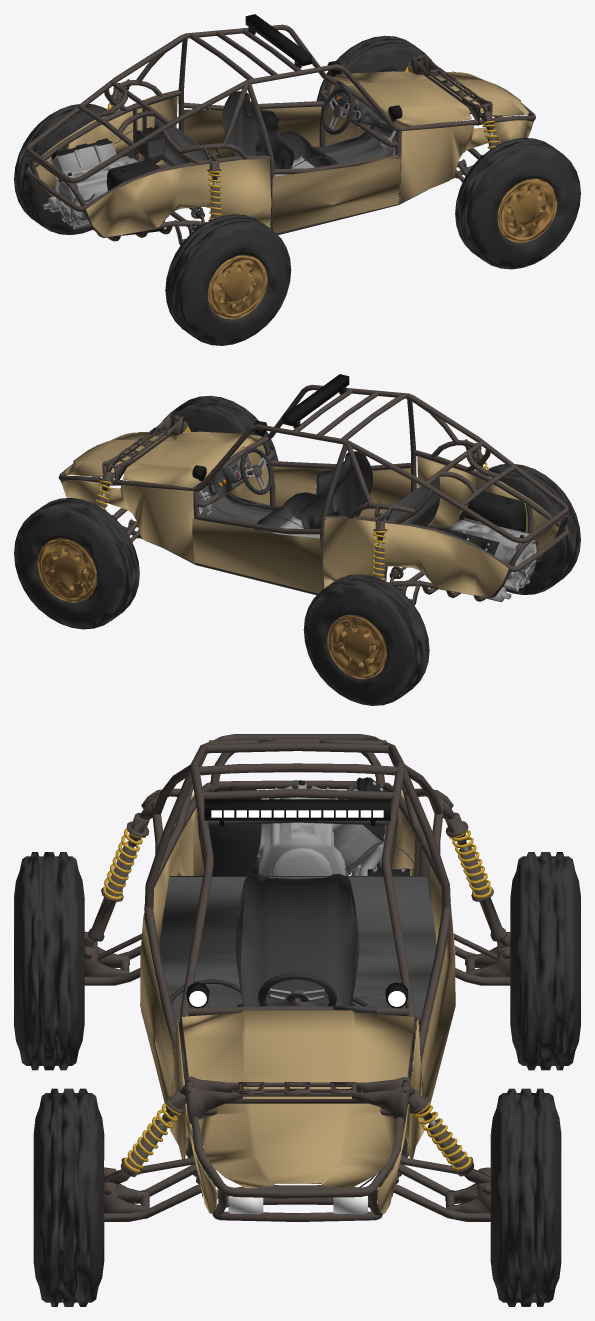
The model's file is dune_runner_upgraded.glb.
The picture shows the model from 3 angles, top to bottom: view 1: azimuth 30°, elevation 25°; view 2: azimuth 150°, elevation 25°; view 3: azimuth 270°, elevation 25°; orthographic projection. The views are drawn at different scales.
Parts seen in each view (by area): view 1: body, wheel_RR, wheel_FR, wheel_RL, wheel_FL, steering_wheel; view 2: body, wheel_RL, wheel_FL, wheel_RR, wheel_FR, steering_wheel; view 3: body, wheel_FL, wheel_FR, wheel_RL, wheel_RR, steering_wheel.
Part boxes in pixels (x1,y1,x2,y2): body: (25, 14, 535, 245); wheel_RR: (165, 214, 291, 345); wheel_FR: (455, 138, 580, 269); wheel_RL: (14, 104, 132, 234); wheel_FL: (316, 35, 431, 101); steering_wheel: (322, 88, 353, 134); body: (58, 374, 569, 605); wheel_RL: (303, 574, 429, 705); wheel_FL: (14, 498, 139, 629); wheel_RR: (458, 464, 580, 594); wheel_FR: (163, 395, 278, 460); steering_wheel: (240, 448, 273, 494); body: (84, 734, 510, 1221); wheel_FL: (490, 1088, 561, 1306); wheel_FR: (33, 1088, 104, 1306); wheel_RL: (510, 852, 580, 1070); wheel_RR: (14, 852, 84, 1070); steering_wheel: (258, 972, 336, 1006).
Bounding box in the file's own units: 3.32 × 1.47 × 2.11.
